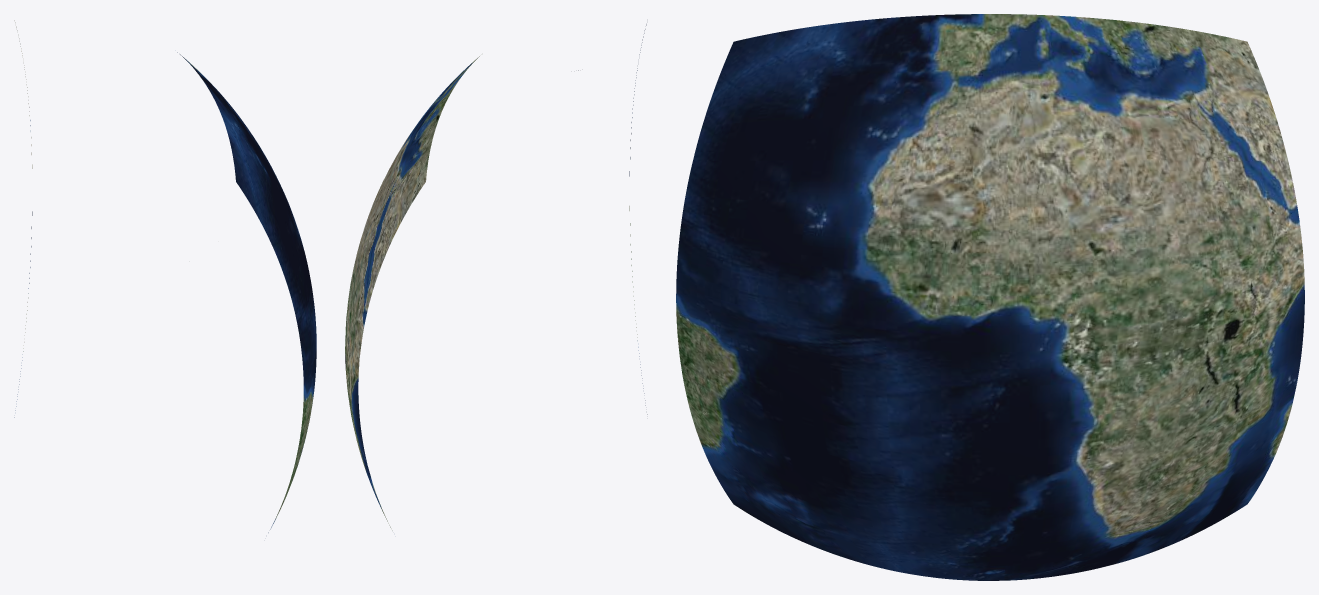
3 views of the same model, side by side, from view 1: azimuth 30°, elevation 25°; view 2: azimuth 150°, elevation 25°; view 3: azimuth 270°, elevation 25° (orthographic). The views are drawn at different scales.
Size of the model in its own units: 2695323 by 8972374 by 9016416.
Materials: 1 (1 with a texture image).
